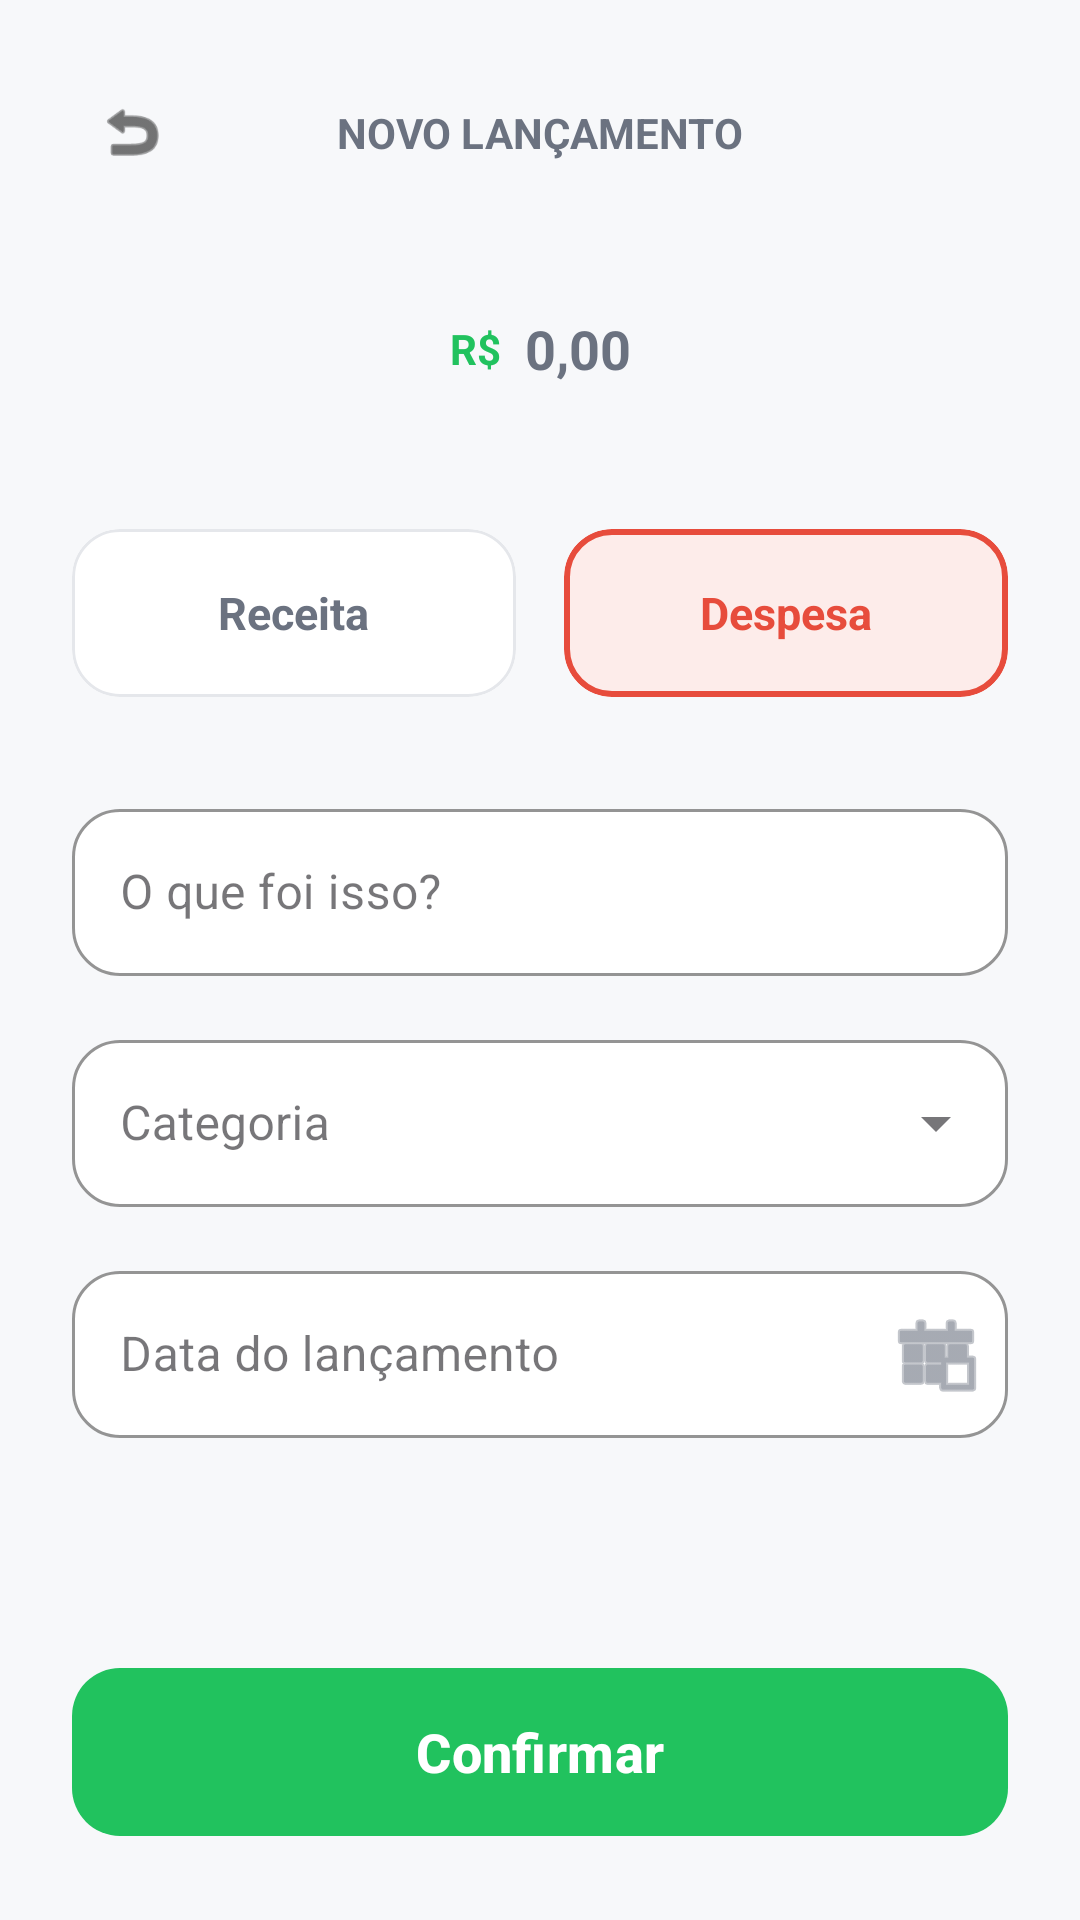

Where to tap for icons on this 1080px×1920px app screen, as [x,y]:
revert: [133,132]
